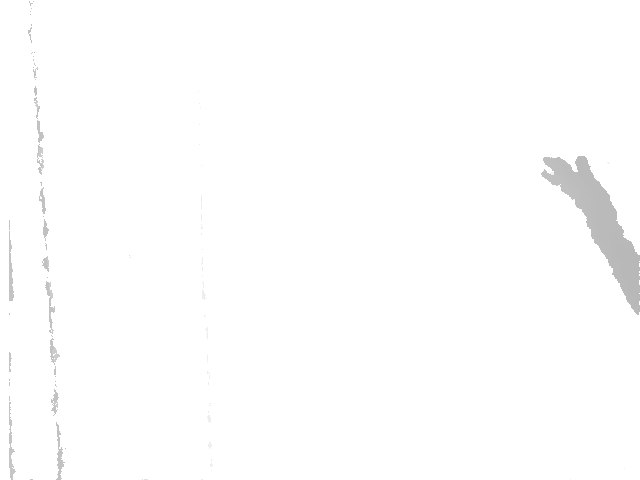hand: (542, 155, 616, 219)
person: (542, 155, 640, 316)
